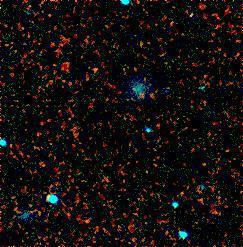star: (79, 54, 109, 84)
